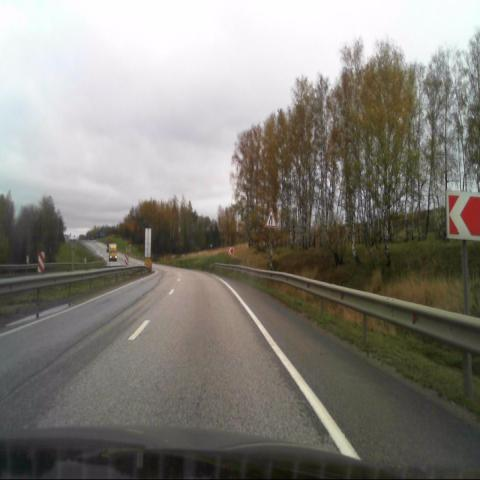1_20_3: (264, 207, 278, 228)
